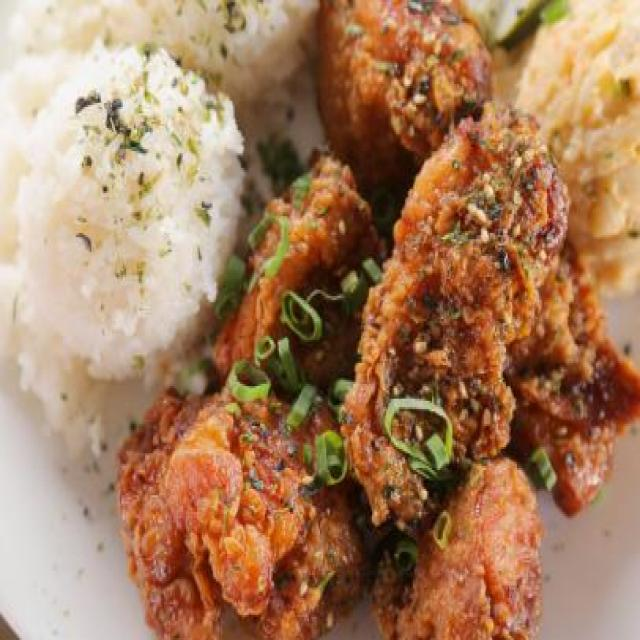Frango: (121, 0, 640, 640)
